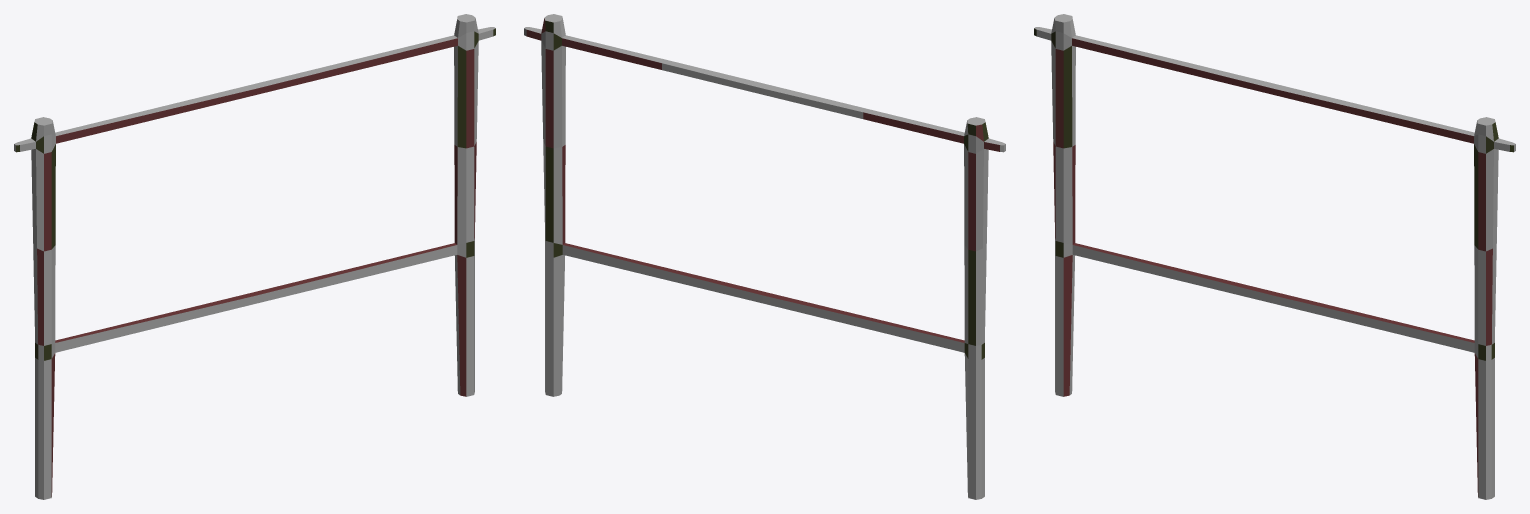
The model's file is Model_Wieszak.fbx.
3 renders of one model, left to right at view 1: azimuth 30°, elevation 25°; view 2: azimuth 150°, elevation 25°; view 3: azimuth 330°, elevation 25°, orthographic.
Parts seen in each view (by area): view 1: Cube; view 2: Cube; view 3: Cube.
Boxes of the visible parts, left/top/right/bottom form: Cube: left=14, top=14, right=495, bottom=499; Cube: left=524, top=14, right=1005, bottom=499; Cube: left=1034, top=14, right=1515, bottom=499.
Bounding box in the file's own units: 13.59 × 315 × 423.
